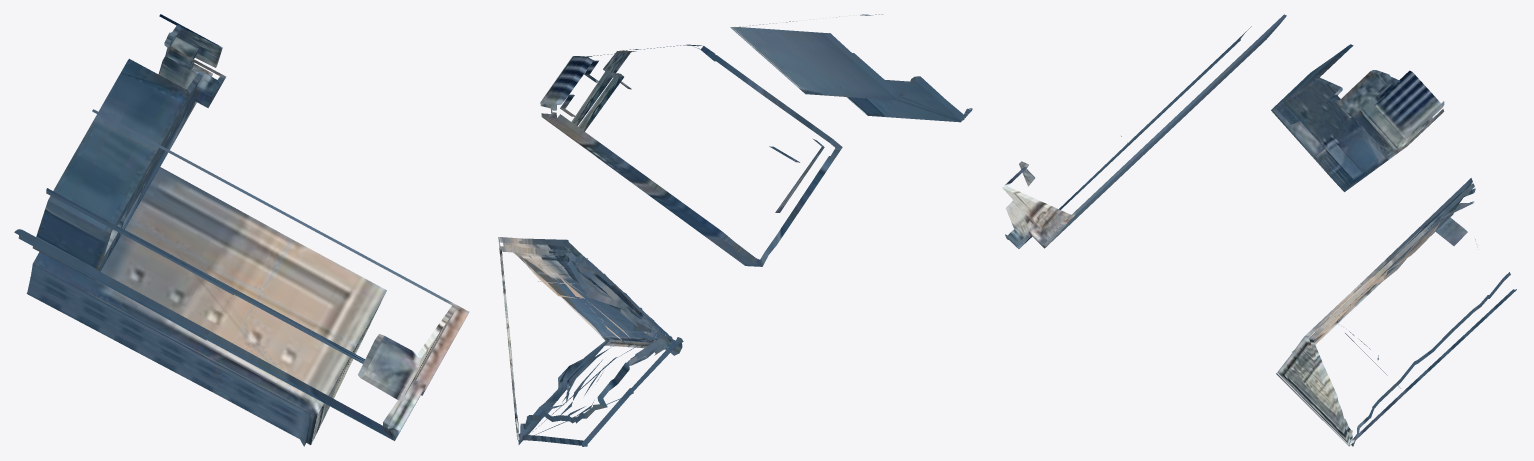
File: masp_tile_2.glb
3 renders of one model, left to right at view 1: azimuth 30°, elevation 25°; view 2: azimuth 150°, elevation 25°; view 3: azimuth 270°, elevation 25°, orthographic. The views are drawn at different scales.
Size of the model in its own units: 41.04 by 40.47 by 56.68.
Materials: 2 (2 with a texture image).
